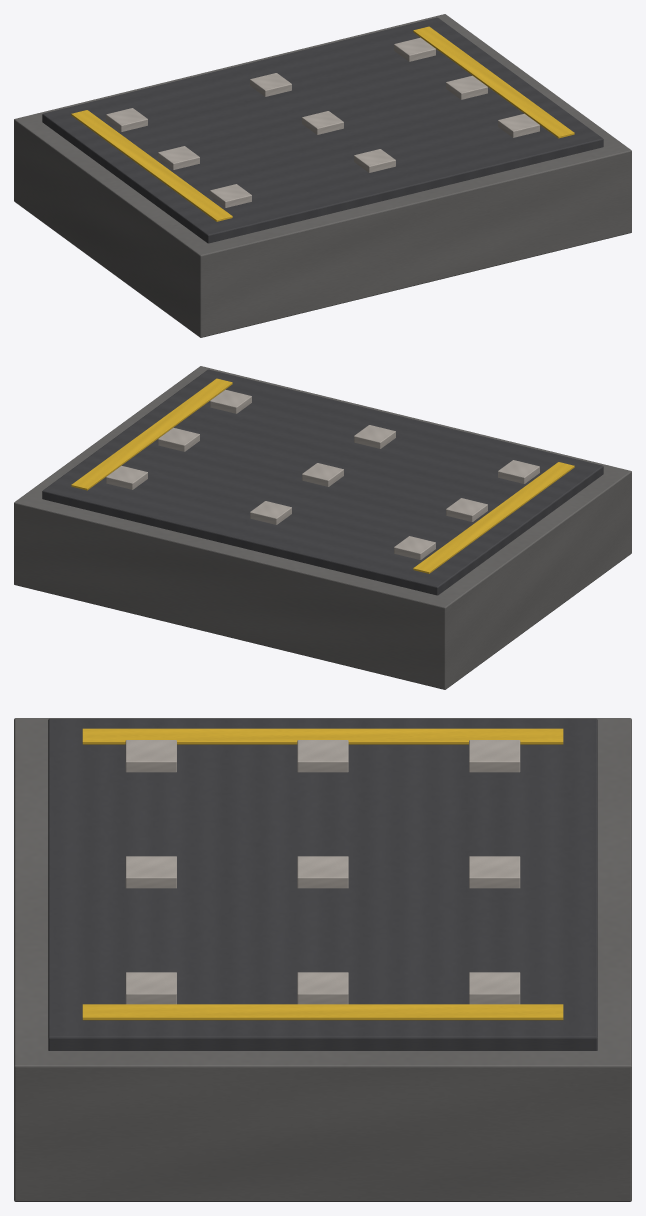
The model's file is spacecraft_test_bed.glb.
The picture shows the model from 3 angles, top to bottom: view 1: azimuth 30°, elevation 25°; view 2: azimuth 150°, elevation 25°; view 3: azimuth 270°, elevation 25°; orthographic projection. The views are drawn at different scales.
Visible parts, largest first — view 1: base.014, top.005, MESH_MAT_Painted_Ivory.190, MESH_MAT_Safety_Yellow.064; view 2: base.014, top.005, MESH_MAT_Painted_Ivory.190, MESH_MAT_Safety_Yellow.064; view 3: top.005, base.014, MESH_MAT_Safety_Yellow.064, MESH_MAT_Painted_Ivory.190.
Boxes of the visible parts, x1,y1,x2,y2 form: base.014: [14, 14, 631, 337]; top.005: [42, 17, 603, 243]; MESH_MAT_Painted_Ivory.190: [106, 37, 539, 207]; MESH_MAT_Safety_Yellow.064: [71, 26, 574, 221]; base.014: [14, 366, 631, 689]; top.005: [42, 369, 603, 595]; MESH_MAT_Painted_Ivory.190: [106, 389, 539, 559]; MESH_MAT_Safety_Yellow.064: [71, 378, 574, 573]; top.005: [48, 718, 597, 1050]; base.014: [14, 718, 631, 1201]; MESH_MAT_Safety_Yellow.064: [82, 728, 563, 1020]; MESH_MAT_Painted_Ivory.190: [125, 740, 520, 1004].
Bounding box in the file's own units: 2.4 × 0.52 × 1.8.
Materials: 4 (4 with a texture image).
